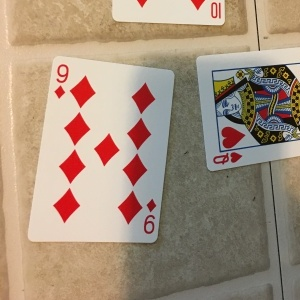card: (27, 54, 176, 246)
